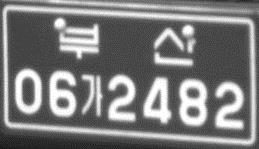0: (12, 66, 44, 116)
2: (212, 79, 246, 132), (107, 71, 137, 125)
4: (139, 73, 173, 126)
6: (47, 67, 78, 121)
8: (177, 78, 209, 128)
가: (78, 70, 106, 119)
부산_D: (56, 21, 197, 70)
